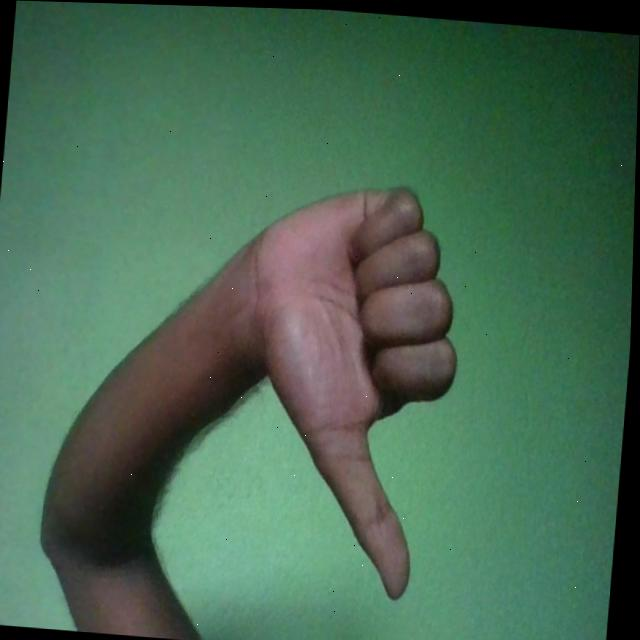Dislike: (230, 173, 473, 603)
